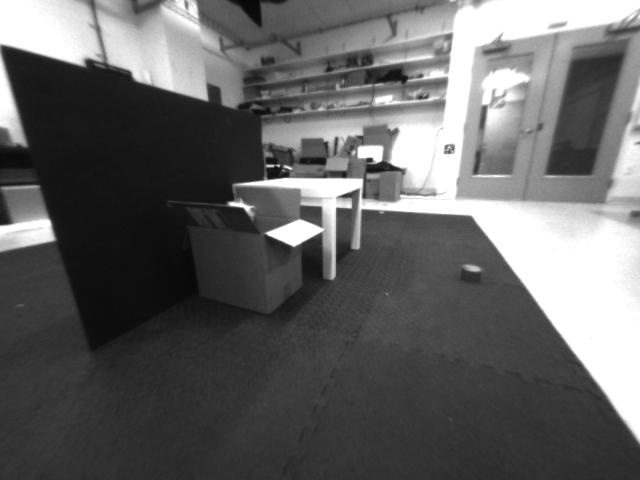dogtoy: (444, 249, 497, 301)
